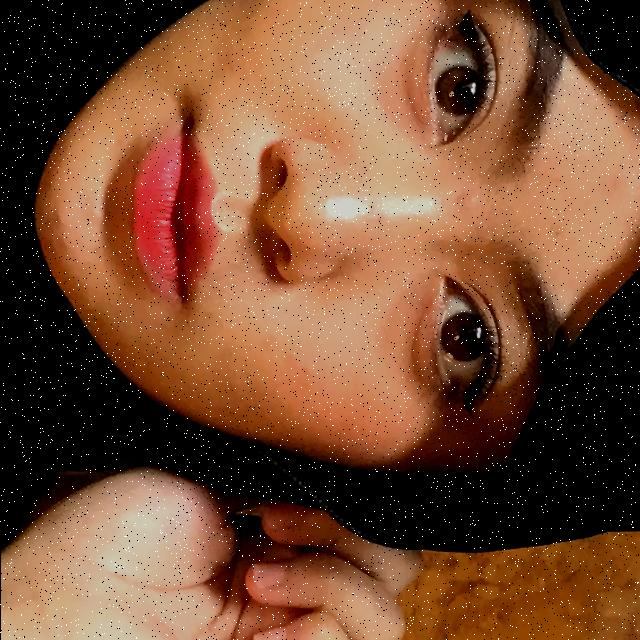ibu: (0, 300, 404, 640)
